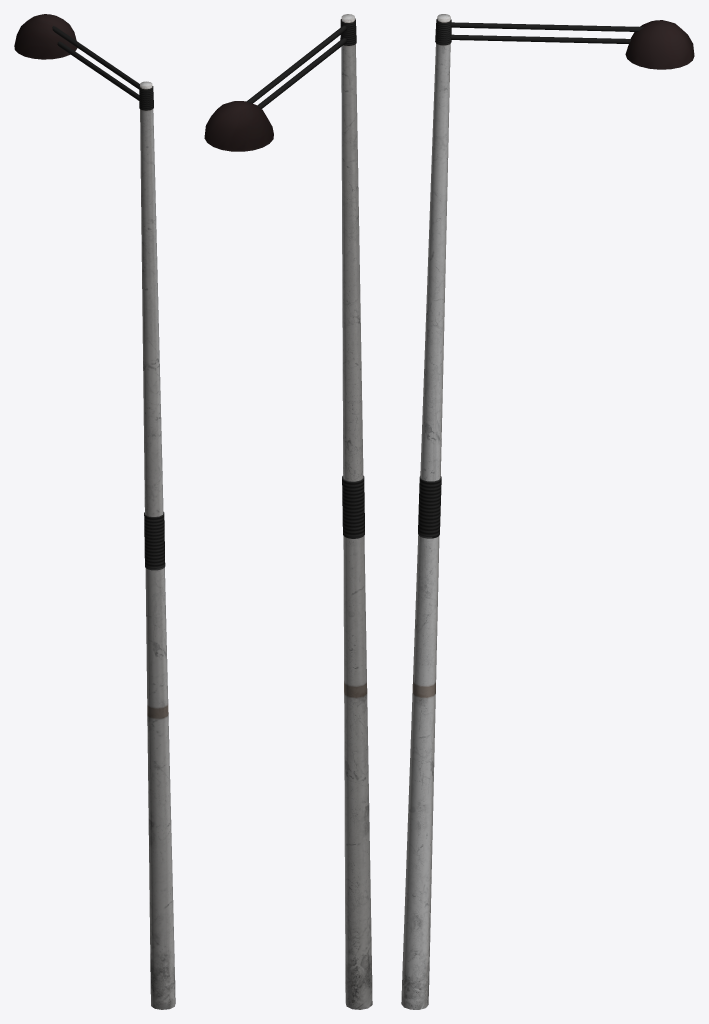
The model's file is Preset_StreetLightB.fbx.
The picture shows the model from 3 angles, left to right: view 1: azimuth 30°, elevation 25°; view 2: azimuth 150°, elevation 25°; view 3: azimuth 270°, elevation 25°; orthographic projection. The views are drawn at different scales.
Parts seen in each view (by area): view 1: BodyVD, BodyEmit, BodyHD_BLK, BodyVDdw_BLK; view 2: BodyVD, BodyEmit, BodyHD_BLK, BodyVDdw_BLK; view 3: BodyVD, BodyEmit, BodyHD_BLK, BodyVDdw_BLK.
Boxes of the visible parts, x1=… form: BodyVD: x1=140, y1=81, x2=175, y2=1009; BodyEmit: x1=14, y1=14, x2=77, y2=59; BodyHD_BLK: x1=52, y1=26, x2=139, y2=100; BodyVDdw_BLK: x1=144, y1=512, x2=165, y2=570; BodyVD: x1=341, y1=14, x2=372, y2=1009; BodyEmit: x1=204, y1=101, x2=273, y2=151; BodyHD_BLK: x1=246, y1=25, x2=347, y2=108; BodyVDdw_BLK: x1=342, y1=475, x2=364, y2=538; BodyVD: x1=401, y1=14, x2=450, y2=1009; BodyEmit: x1=625, y1=20, x2=694, y2=69; BodyHD_BLK: x1=450, y1=22, x2=643, y2=43; BodyVDdw_BLK: x1=418, y1=476, x2=441, y2=538.
Size of the model in its own units: 78.35 by 333 by 1234.
Materials: 4 (4 with a texture image).
